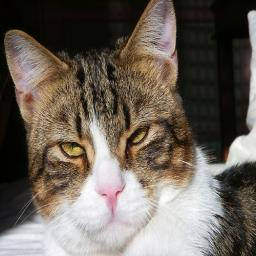catnose: (98, 182, 124, 211)
